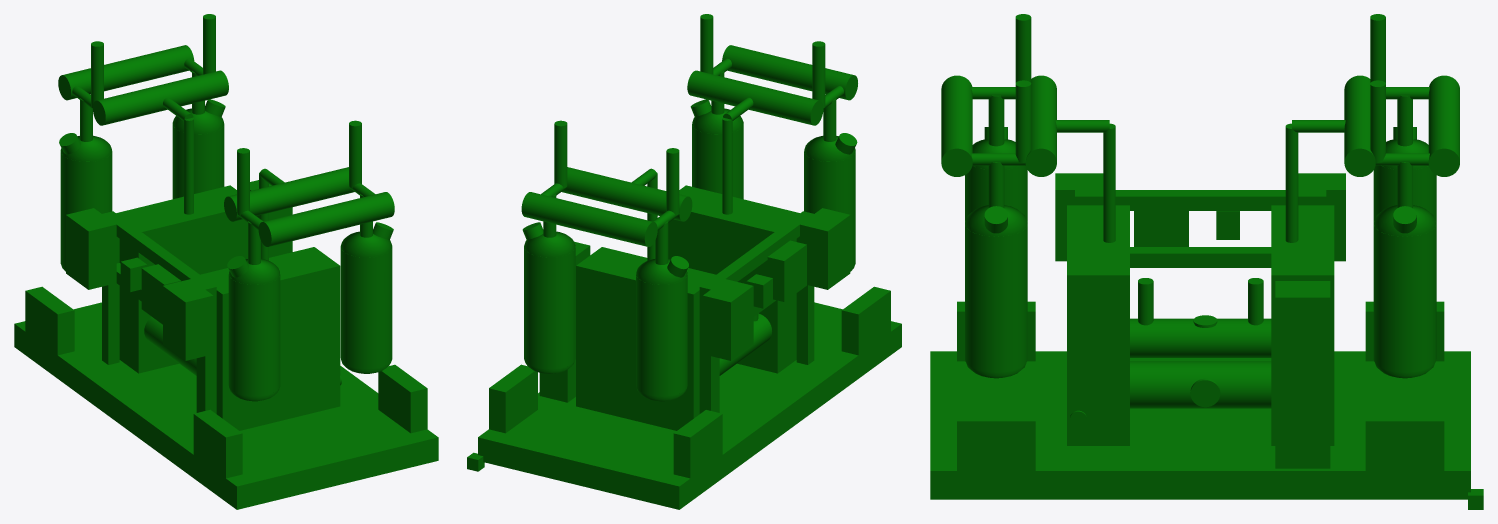
Rendered from Image-1710907725715-2281046410240_63-XX50.fbx.
3 renders of one model, left to right at view 1: azimuth 30°, elevation 25°; view 2: azimuth 150°, elevation 25°; view 3: azimuth 270°, elevation 25°, orthographic. The views are drawn at different scales.
Parts seen in each view (by area): view 1: BOX 1 of SUBEQUIPMENT /63-XX50/PRIM, BOX 1 of SUBEQUIPMENT /63-XX50/DRYER-B, BOX 1 of SUBEQUIPMENT /63-XX50/DRYER-A, CYLINDER 1 of SUBEQUIPMENT /63-VK61B, CYLINDER 1 of SUBEQUIPMENT /63-VK61A, BOX 2 of SUBEQUIPMENT /63-XX50/JB, BOX 3 of SUBEQUIPMENT /63-XX50/JB, CYLINDER 4 of SUBEQUIPMENT /63-XX50/DRYER-B, CYLINDER 6 of SUBEQUIPMENT /63-XX50/DRYER-A, CYLINDER 1 of SUBEQUIPMENT /63-VK60B, CYLINDER 5 of SUBEQUIPMENT /63-XX50/DRYER-A, CYLINDER 7 of SUBEQUIPMENT /63-XX50/DRYER-B (+22 smaller); view 2: BOX 1 of SUBEQUIPMENT /63-XX50/PRIM, BOX 1 of SUBEQUIPMENT /63-XX50/DRYER-A, BOX 1 of SUBEQUIPMENT /63-XX50/DRYER-B, CYLINDER 1 of SUBEQUIPMENT /63-VK60A, CYLINDER 1 of SUBEQUIPMENT /63-VK60B, BOX 2 of SUBEQUIPMENT /63-XX50/JB, CYLINDER 5 of SUBEQUIPMENT /63-XX50/DRYER-A, CYLINDER 7 of SUBEQUIPMENT /63-XX50/DRYER-B, BOX 3 of SUBEQUIPMENT /63-XX50/JB, CYLINDER 1 of SUBEQUIPMENT /63-VK61B, CYLINDER 4 of SUBEQUIPMENT /63-XX50/DRYER-B, CYLINDER 6 of SUBEQUIPMENT /63-XX50/DRYER-A (+22 smaller); view 3: BOX 1 of SUBEQUIPMENT /63-XX50/PRIM, BOX 1 of SUBEQUIPMENT /63-XX50/DRYER-B, /63-XX50-JB, CYLINDER 1 of SUBEQUIPMENT /63-VK60A, CYLINDER 1 of SUBEQUIPMENT /63-VK61A, CYLINDER 1 of SUBEQUIPMENT /63-XX50/DRYER-B, BOX 1 of SUBEQUIPMENT /63-XX50/DRYER-A, CYLINDER 1 of SUBEQUIPMENT /63-XX50/DRYER-A, BOX 2 of SUBEQUIPMENT /63-XX50/PRIM, BOX 3 of SUBEQUIPMENT /63-XX50/PRIM, BOX 7 of SUBEQUIPMENT /63-XX50/JB, CYLINDER 4 of SUBEQUIPMENT /63-XX50/DRYER-B (+31 smaller).
Boxes of the visible parts, left/top/right/bottom form: BOX 1 of SUBEQUIPMENT /63-XX50/PRIM: left=14, top=302, right=438, bottom=509; BOX 1 of SUBEQUIPMENT /63-XX50/DRYER-B: left=196, top=247, right=340, bottom=430; BOX 1 of SUBEQUIPMENT /63-XX50/DRYER-A: left=116, top=185, right=247, bottom=373; CYLINDER 1 of SUBEQUIPMENT /63-VK61B: left=228, top=273, right=280, bottom=396; CYLINDER 1 of SUBEQUIPMENT /63-VK61A: left=340, top=245, right=392, bottom=368; BOX 2 of SUBEQUIPMENT /63-XX50/JB: left=66, top=208, right=116, bottom=289; BOX 3 of SUBEQUIPMENT /63-XX50/JB: left=163, top=279, right=213, bottom=360; CYLINDER 4 of SUBEQUIPMENT /63-XX50/DRYER-B: left=258, top=192, right=394, bottom=246; CYLINDER 6 of SUBEQUIPMENT /63-XX50/DRYER-A: left=93, top=70, right=228, bottom=125; CYLINDER 1 of SUBEQUIPMENT /63-VK60B: left=60, top=149, right=112, bottom=268; CYLINDER 5 of SUBEQUIPMENT /63-XX50/DRYER-A: left=58, top=45, right=194, bottom=100; CYLINDER 7 of SUBEQUIPMENT /63-XX50/DRYER-B: left=224, top=167, right=354, bottom=221; BOX 1 of SUBEQUIPMENT /63-XX50/PRIM: left=478, top=302, right=901, bottom=509; BOX 1 of SUBEQUIPMENT /63-XX50/DRYER-A: left=576, top=247, right=719, bottom=430; BOX 1 of SUBEQUIPMENT /63-XX50/DRYER-B: left=668, top=185, right=799, bottom=373; CYLINDER 1 of SUBEQUIPMENT /63-VK60A: left=524, top=246, right=575, bottom=368; CYLINDER 1 of SUBEQUIPMENT /63-VK60B: left=636, top=273, right=687, bottom=396; BOX 2 of SUBEQUIPMENT /63-XX50/JB: left=703, top=279, right=753, bottom=360; CYLINDER 5 of SUBEQUIPMENT /63-XX50/DRYER-A: left=521, top=192, right=657, bottom=246; CYLINDER 7 of SUBEQUIPMENT /63-XX50/DRYER-B: left=687, top=70, right=823, bottom=125; BOX 3 of SUBEQUIPMENT /63-XX50/JB: left=800, top=208, right=850, bottom=289; CYLINDER 1 of SUBEQUIPMENT /63-VK61B: left=804, top=149, right=855, bottom=268; CYLINDER 4 of SUBEQUIPMENT /63-XX50/DRYER-B: left=722, top=45, right=857, bottom=100; CYLINDER 6 of SUBEQUIPMENT /63-XX50/DRYER-A: left=562, top=167, right=692, bottom=221; BOX 1 of SUBEQUIPMENT /63-XX50/PRIM: left=930, top=351, right=1470, bottom=499; BOX 1 of SUBEQUIPMENT /63-XX50/DRYER-B: left=1067, top=205, right=1129, bottom=445; /63-XX50-JB: left=1275, top=281, right=1330, bottom=468; CYLINDER 1 of SUBEQUIPMENT /63-VK60A: left=1373, top=221, right=1436, bottom=372; CYLINDER 1 of SUBEQUIPMENT /63-VK61A: left=965, top=221, right=1027, bottom=372; CYLINDER 1 of SUBEQUIPMENT /63-XX50/DRYER-B: left=1130, top=361, right=1271, bottom=408; BOX 1 of SUBEQUIPMENT /63-XX50/DRYER-A: left=1271, top=205, right=1334, bottom=445; CYLINDER 1 of SUBEQUIPMENT /63-XX50/DRYER-A: left=1130, top=318, right=1271, bottom=357; BOX 2 of SUBEQUIPMENT /63-XX50/PRIM: left=1365, top=411, right=1444, bottom=470; BOX 3 of SUBEQUIPMENT /63-XX50/PRIM: left=957, top=411, right=1035, bottom=470; BOX 7 of SUBEQUIPMENT /63-XX50/JB: left=1075, top=190, right=1326, bottom=210; CYLINDER 4 of SUBEQUIPMENT /63-XX50/DRYER-B: left=941, top=75, right=972, bottom=176.
Bounding box in the file's own units: 1.85 × 3.52 × 2.78.
